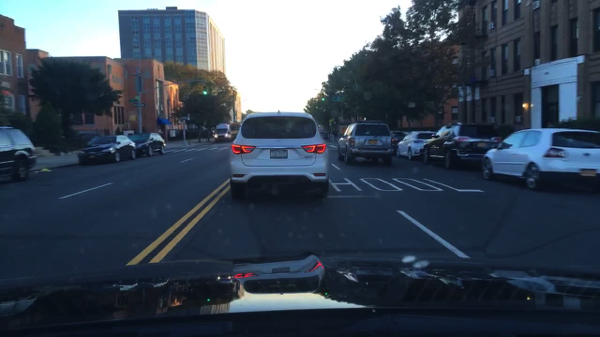bus: (230, 123, 239, 138)
car: (228, 114, 330, 203), (479, 128, 600, 191), (421, 122, 503, 171), (336, 121, 394, 166), (0, 126, 38, 183), (77, 135, 138, 166), (394, 131, 437, 162), (127, 133, 168, 157), (392, 131, 411, 148)
traffic light: (201, 84, 206, 96), (197, 84, 200, 96), (316, 93, 319, 102), (321, 93, 323, 102)
traffic sign: (330, 96, 346, 102), (133, 103, 145, 108), (129, 98, 137, 103), (179, 116, 188, 120)
truck: (214, 124, 231, 143)
